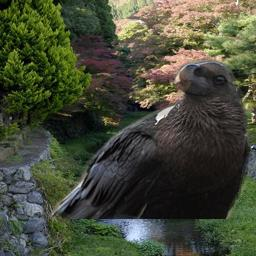Crow: (46, 57, 254, 219)
